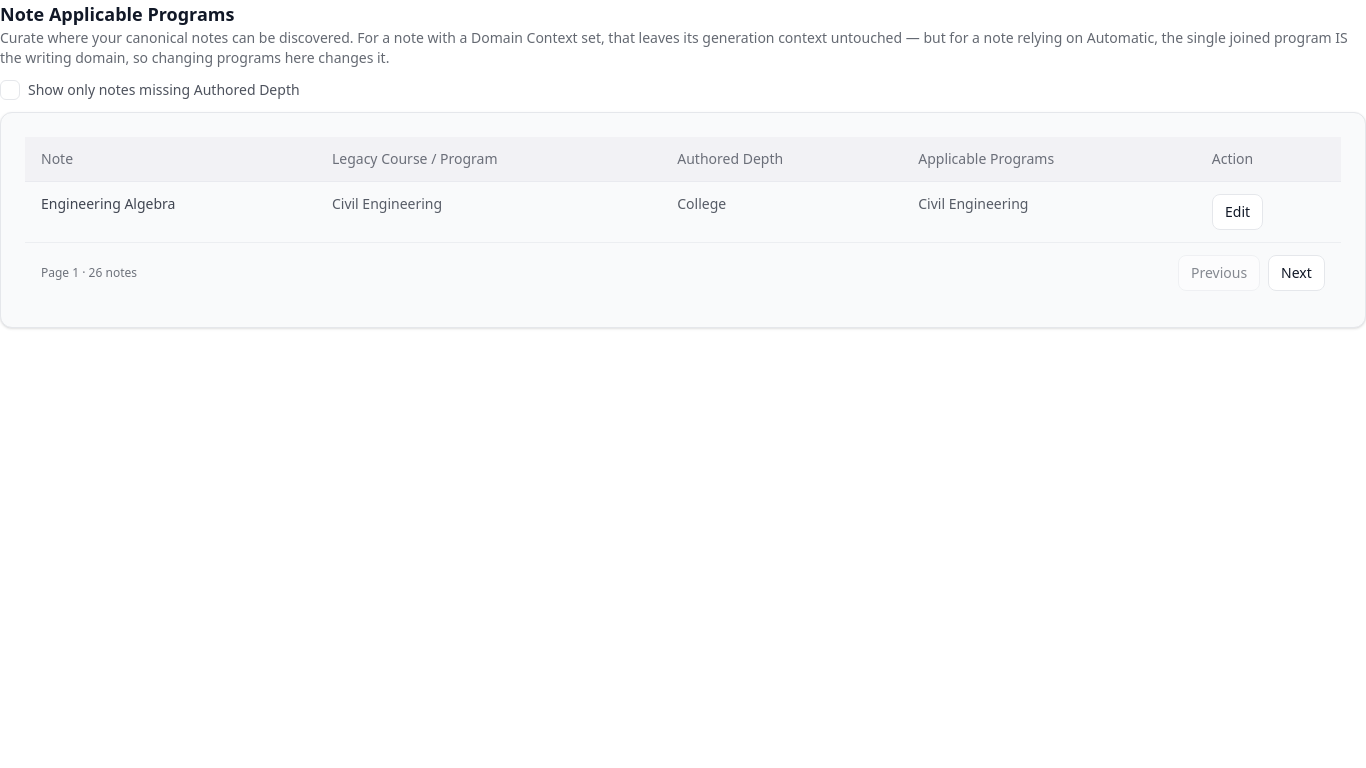
Test: AdminApplicableProgramsSection › reconciles the full selected set and shows the persisted result
Expected: the text "Engineering Algebra" is shown, [25,182,316,242]
Step 1. Click the button "Edit" → (1237,212), box [1212,194,1263,230]
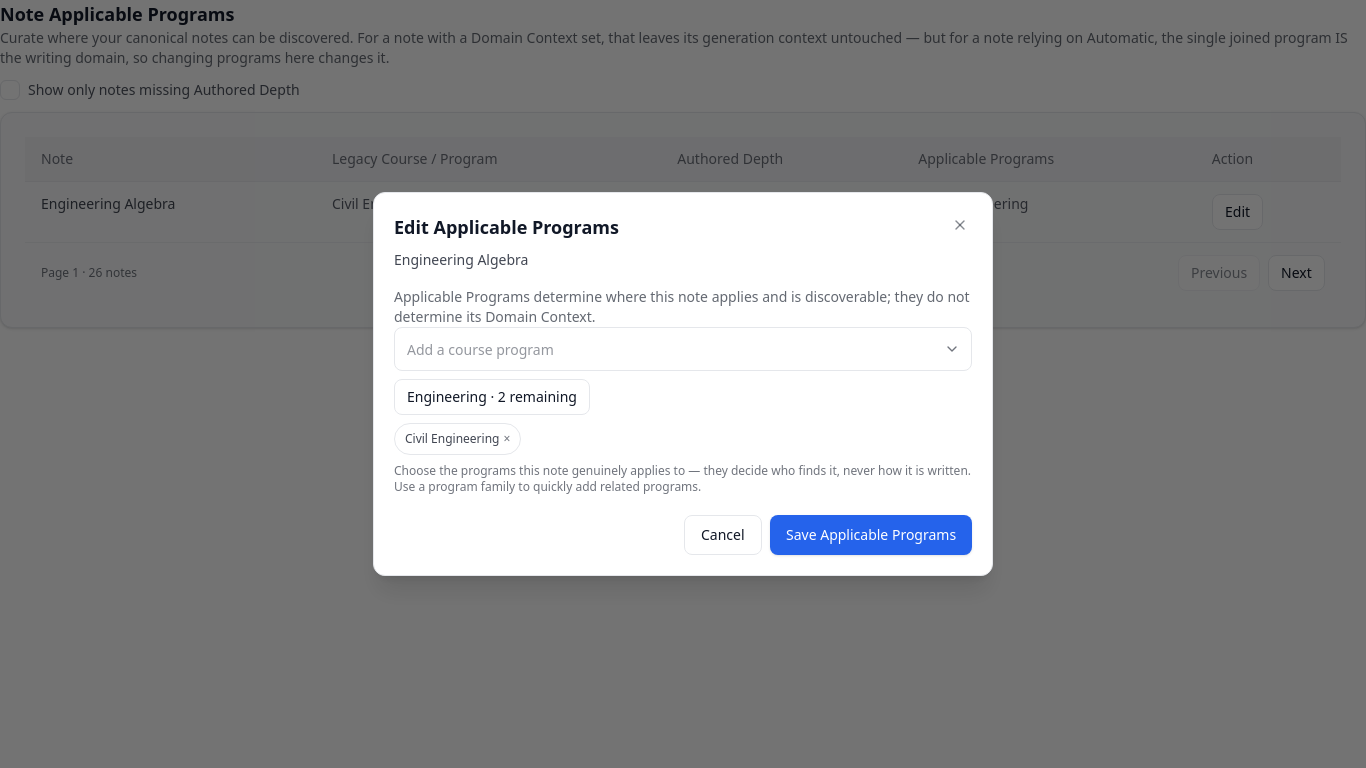
Result: the text "Applicable Programs determine where this note applies and is discoverable" is shown at [394,287,970,326]
Step 2. Click the button "Engineering · 2 remaining" → (492,397), box [394,379,590,415]
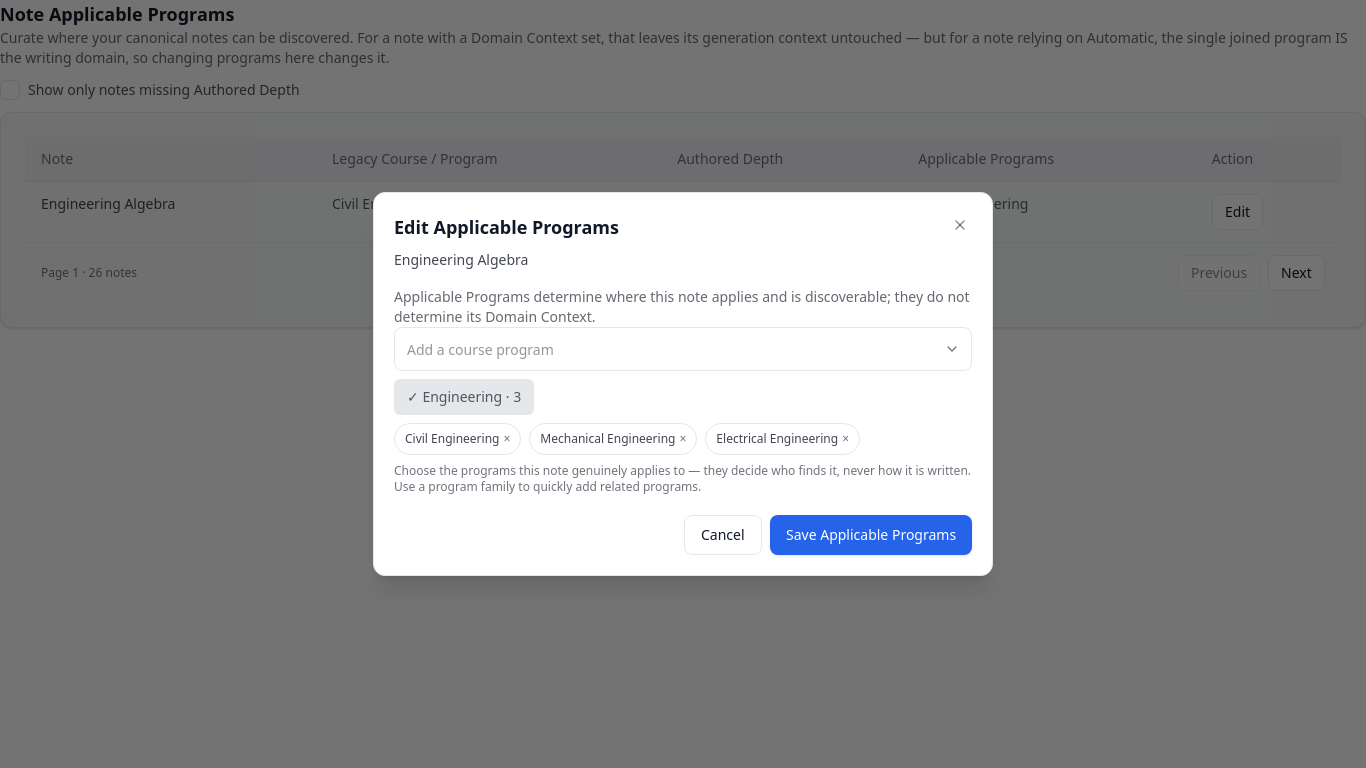
Step 3. Click the button named "Remove Mechanical Engineering" → (683,439), box [680,431,686,447]
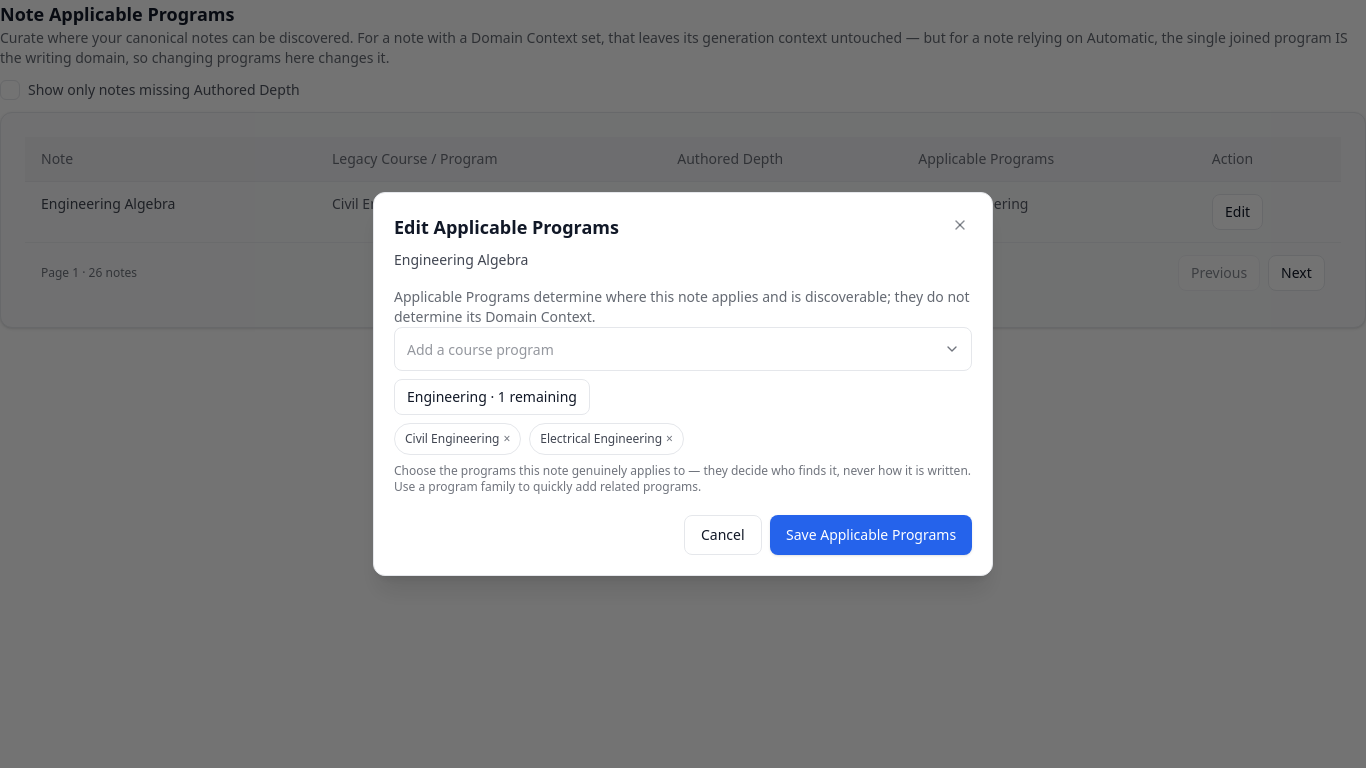
Step 4. Click the button "Save Applicable Programs" → (871,535), box [770,515,972,555]
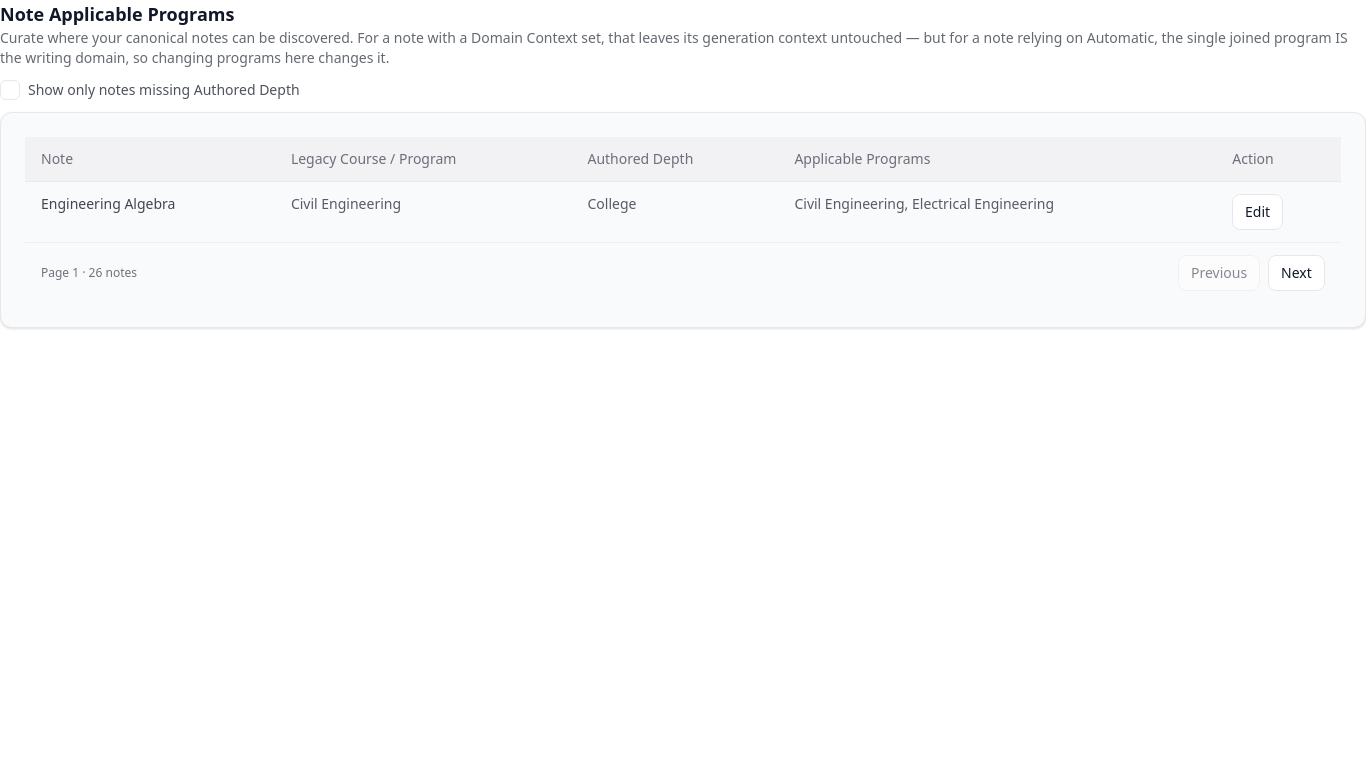
Result: the text "Civil Engineering, Electrical Engineering" is shown at [778,182,1216,242]
